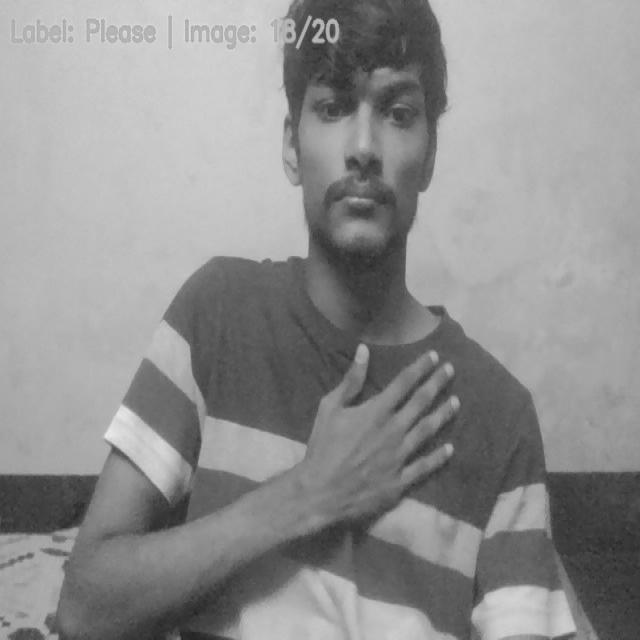Please: (288, 340, 461, 541)
